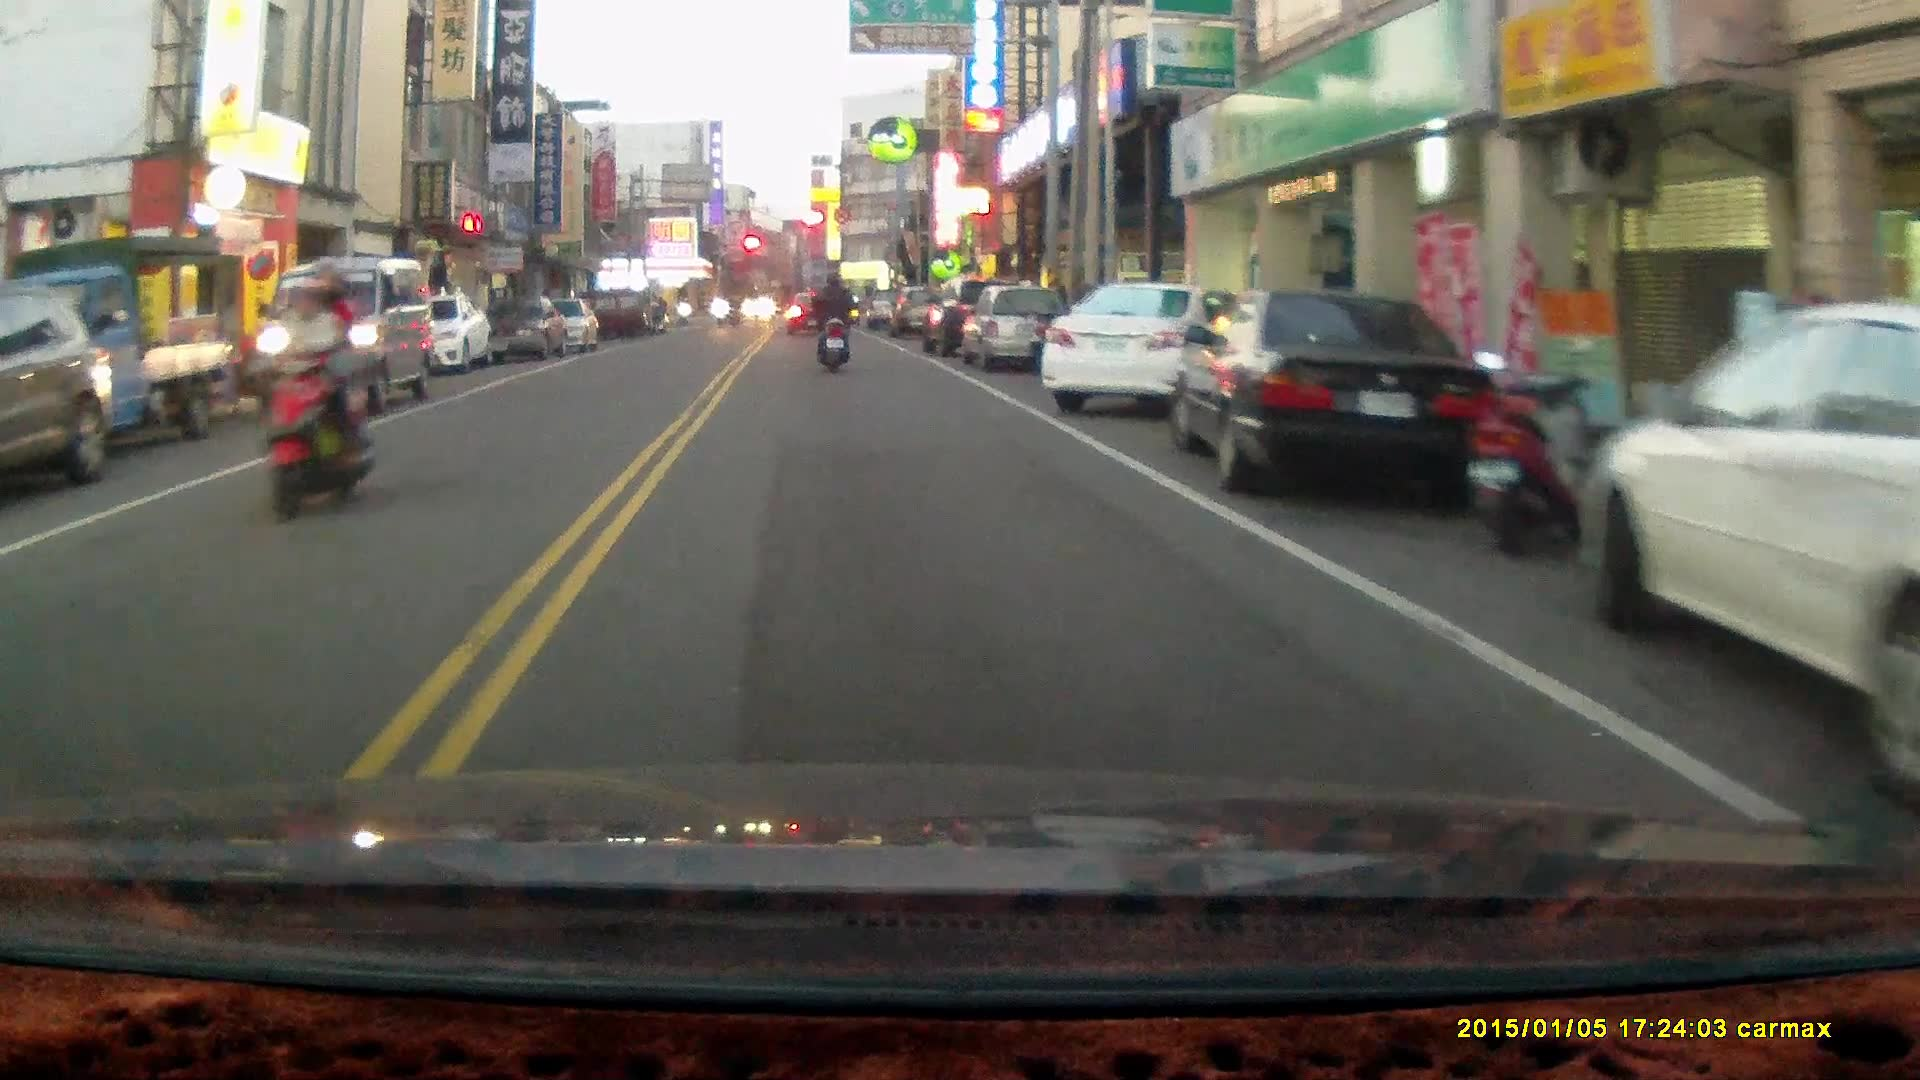rider: (255, 254, 382, 520), (809, 267, 856, 373)
vehicle: (1591, 299, 1920, 810), (1167, 288, 1501, 498), (14, 237, 256, 481), (1040, 275, 1240, 414), (1, 284, 122, 510), (258, 259, 434, 414), (957, 283, 1073, 376), (372, 297, 494, 376)
